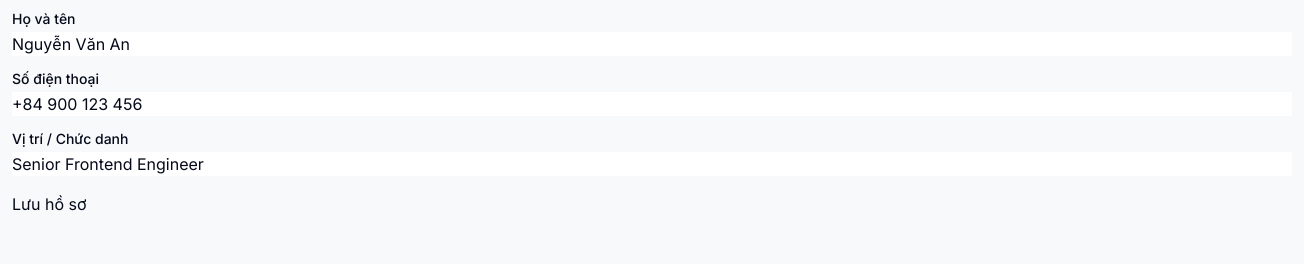
Test: CandidateProfileForm › shows an API error message on failure
Expected: the field labelled "Họ và tên" holds "Nguyễn Văn An", [12,32,1292,56]
Click the button "Lưu hồ sơ" at (49, 204), box [12,192,86,216]
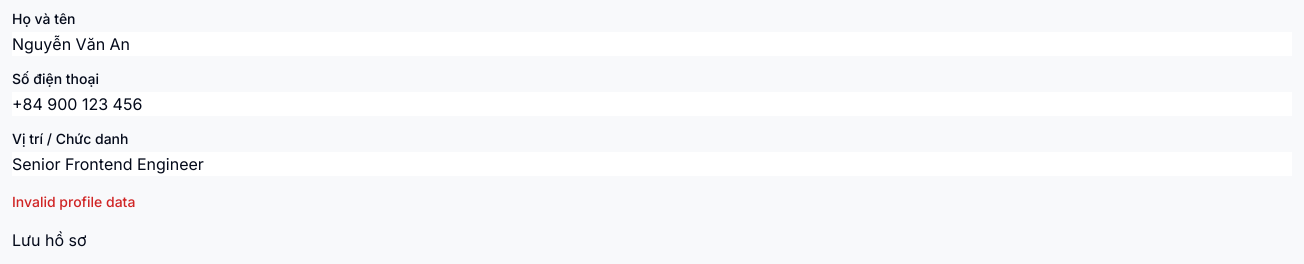
Result: the text "Invalid profile data" is shown at [12,193,135,210]
